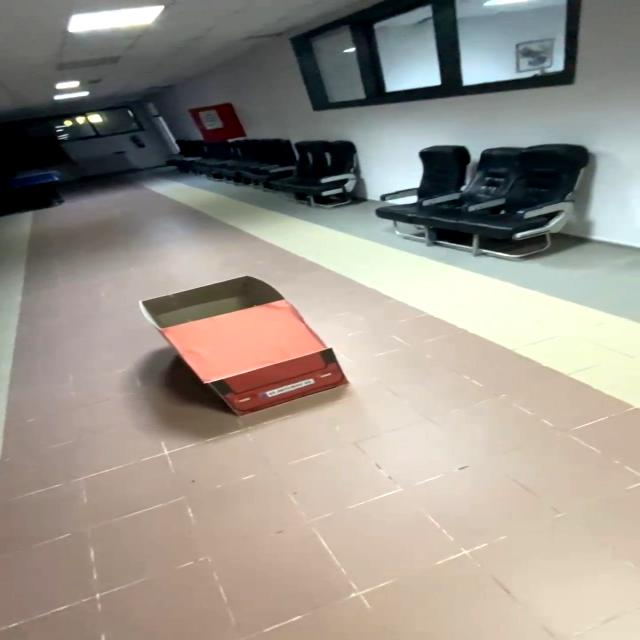red_car: (102, 264, 393, 433)
